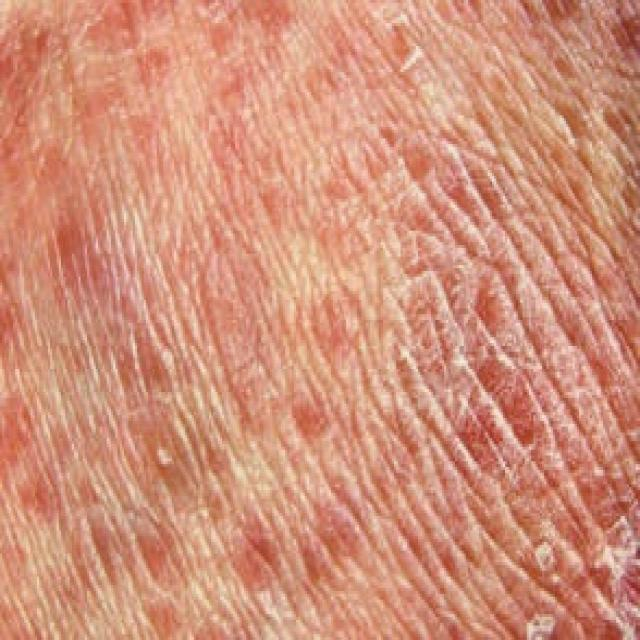Warts-Molluscum-and-other-Viral-Infections: (30, 41, 614, 604)
